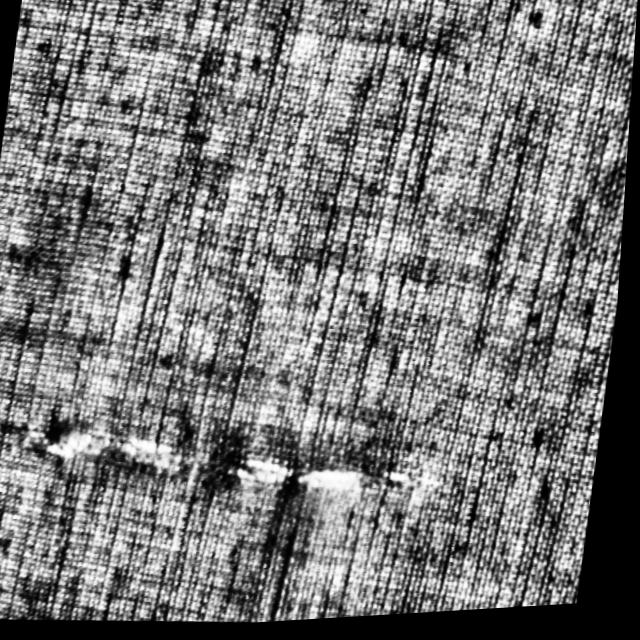Stitch: (18, 406, 459, 525)
